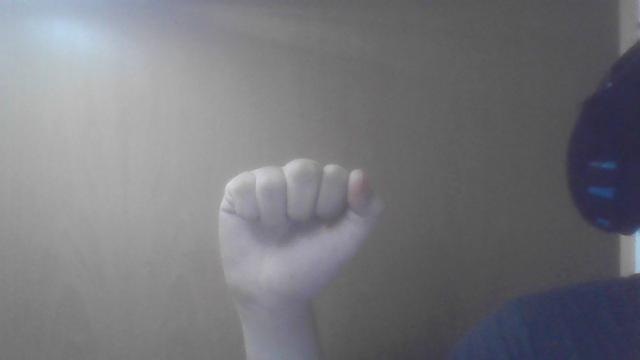forward: (220, 159, 380, 299)
